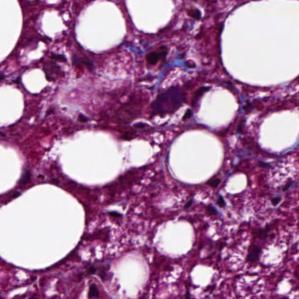inflammation: (127, 78, 195, 133), (32, 46, 76, 89), (143, 38, 189, 71)
